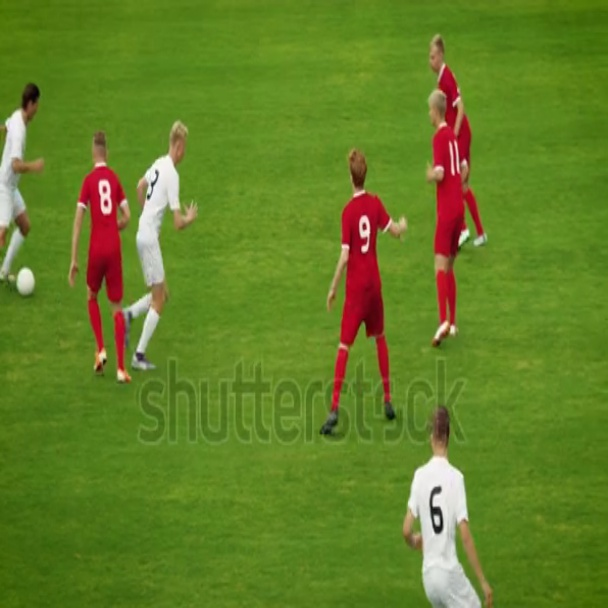ball: (16, 268, 37, 300)
